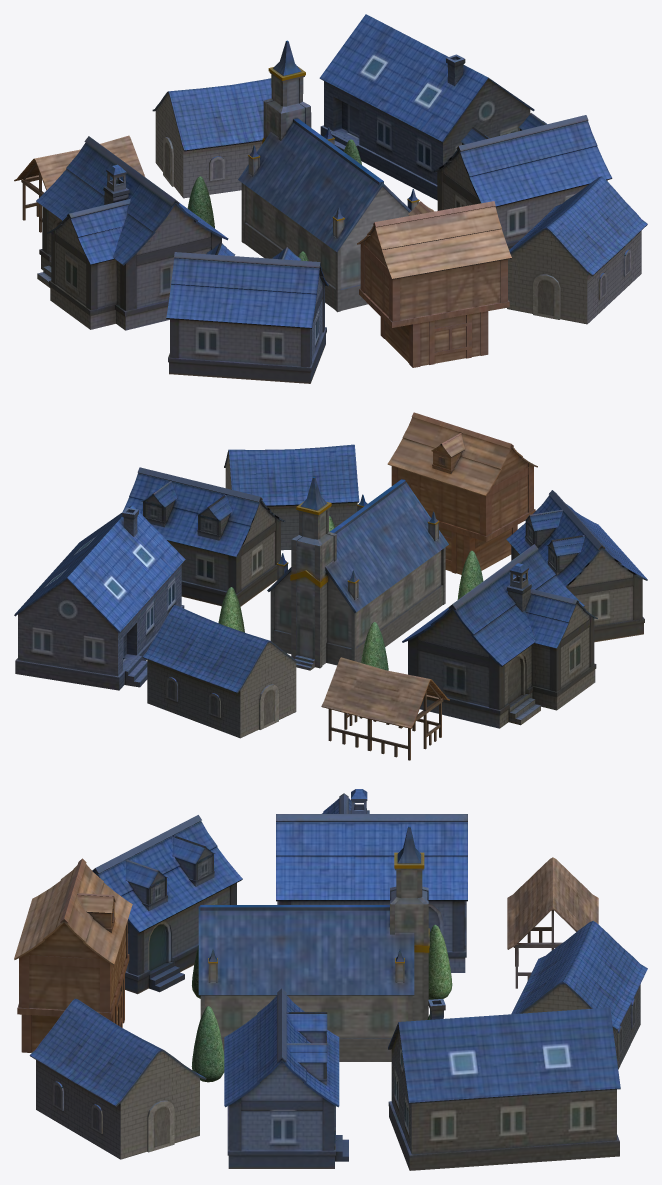
The model's file is city_european_0.glb.
3 renders of one model, top to bottom at view 1: azimuth 30°, elevation 25°; view 2: azimuth 150°, elevation 25°; view 3: azimuth 270°, elevation 25°, orthographic. The views are drawn at different scales.
Visible parts, largest first — view 1: 0002_low.013; view 2: 0002_low.013; view 3: 0002_low.013.
Boxes of the visible parts, x1,y1,x2,y2 form: 0002_low.013: (14,14,647,383); 0002_low.013: (14,412,647,760); 0002_low.013: (14,789,647,1170).
Size of the model in its own units: 10.64 by 3.98 by 10.67.
4 materials, 4 textured.
